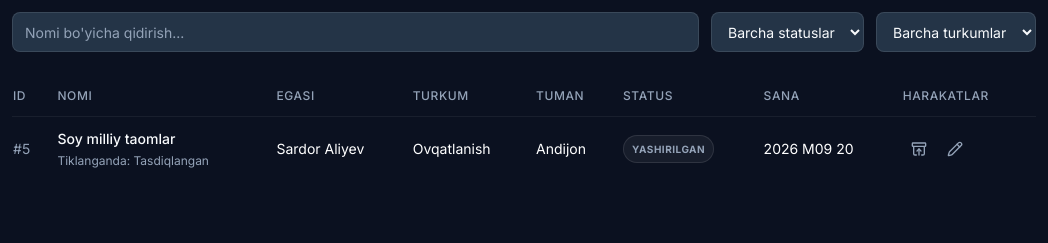
Test: AdminBusinessesView — business operations › surfaces a 409 when another SUPER_ADMIN restored it first
Check: the text "Soy milliy taomlar" is shown, box top-left (57, 130), bottom-right (175, 147)
Click the button named "Yashirishni bekor qilish" at point(919, 149), box top-left (903, 133), bottom-right (935, 165)
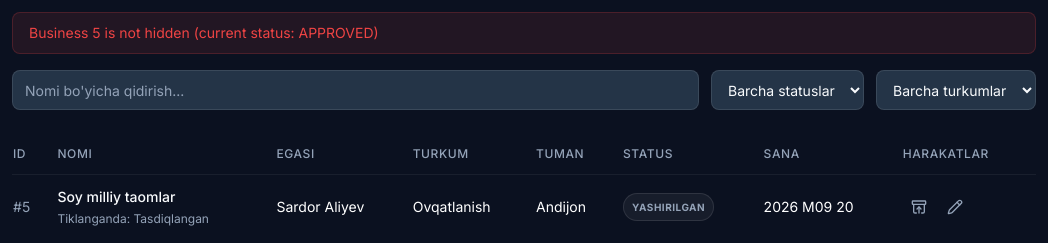
Check: the text "Business 5 is not hidden (current status: APPROVED)" is shown, box top-left (12, 12), bottom-right (1036, 54)
